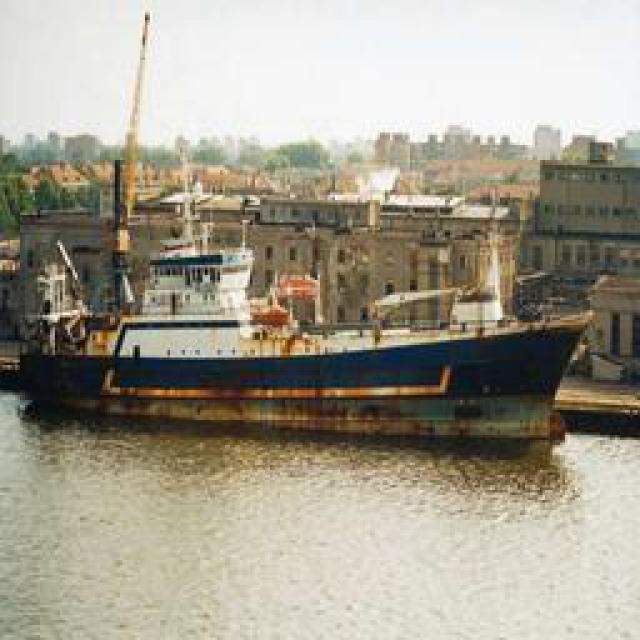Ship: (25, 211, 605, 436)
